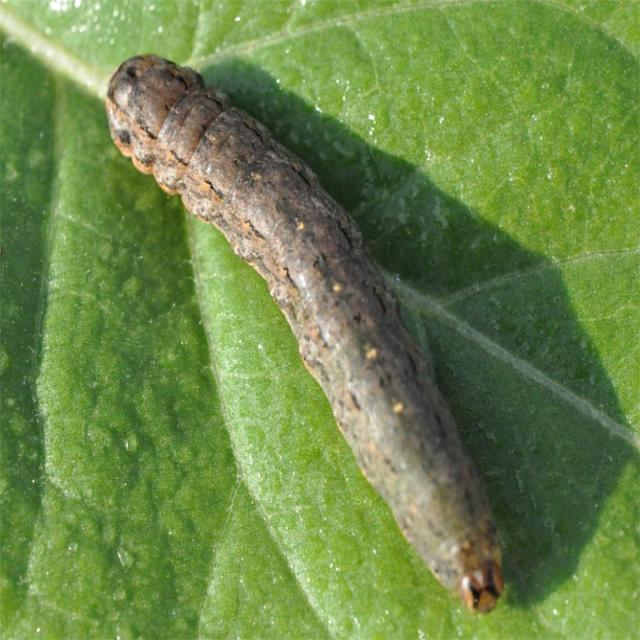Cutworm: (103, 42, 516, 622)
